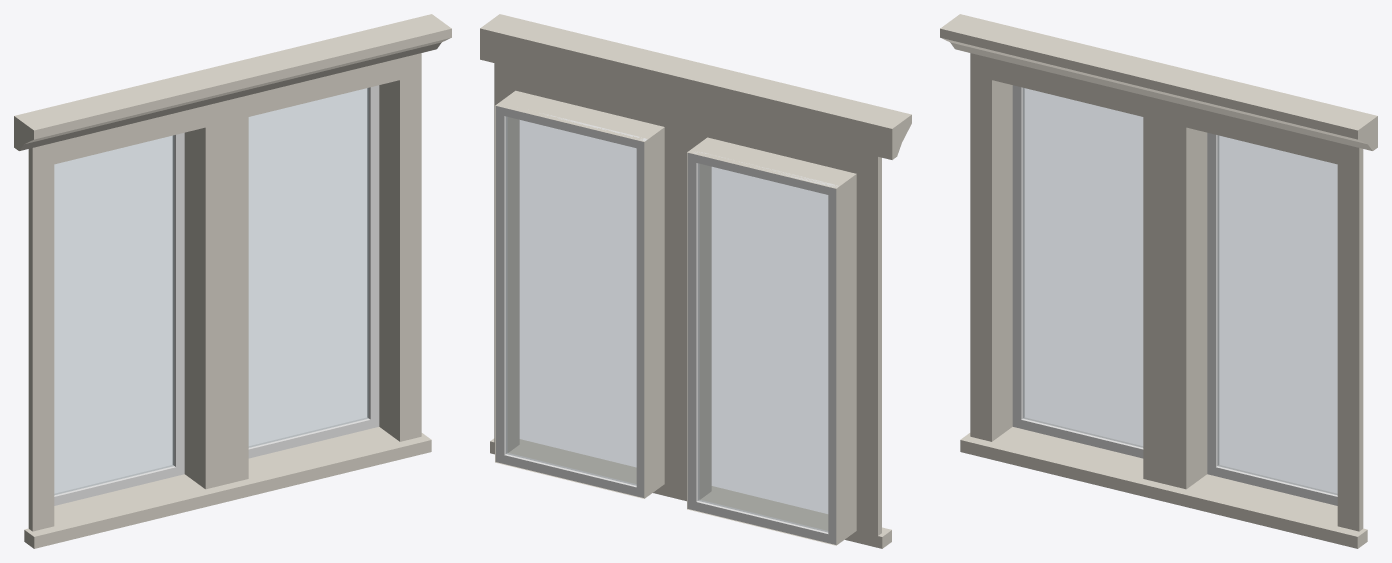
Rendered from win_pair_stone_2.4x2.4_lod1.glb.
3 views of the same model, side by side, from view 1: azimuth 30°, elevation 25°; view 2: azimuth 150°, elevation 25°; view 3: azimuth 330°, elevation 25° (orthographic).
Visible parts, largest first — view 1: win_pair; view 2: win_pair; view 3: win_pair.
Part boxes in pixels (left/top/right/bottom): win_pair: left=14, top=14, right=451, bottom=548; win_pair: left=480, top=14, right=911, bottom=548; win_pair: left=940, top=14, right=1377, bottom=548.
Bounding box in the file's own units: 2.9 × 2.84 × 0.49.
